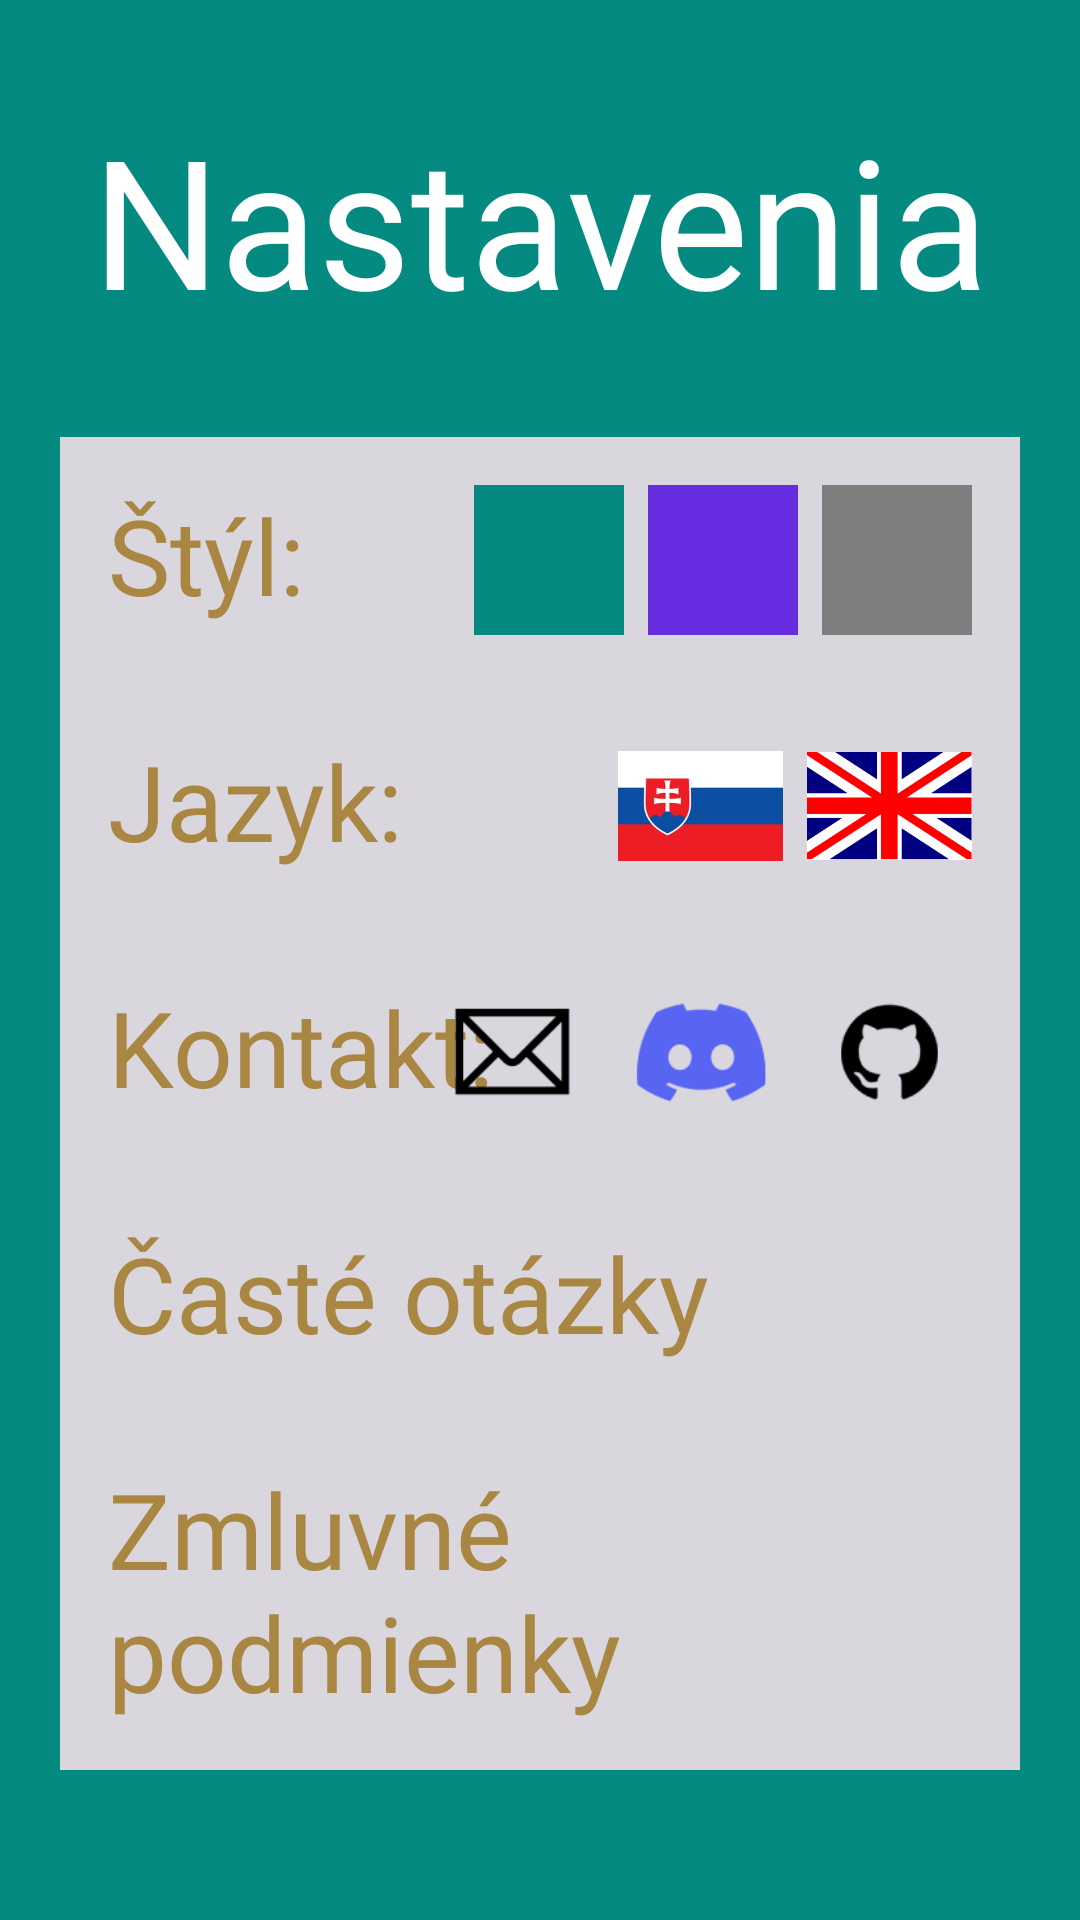

Icons on this 1080px×1920px Android screen, each with its box as (x1, y1, x2, y2):
mail: (435, 1008, 570, 1095)
